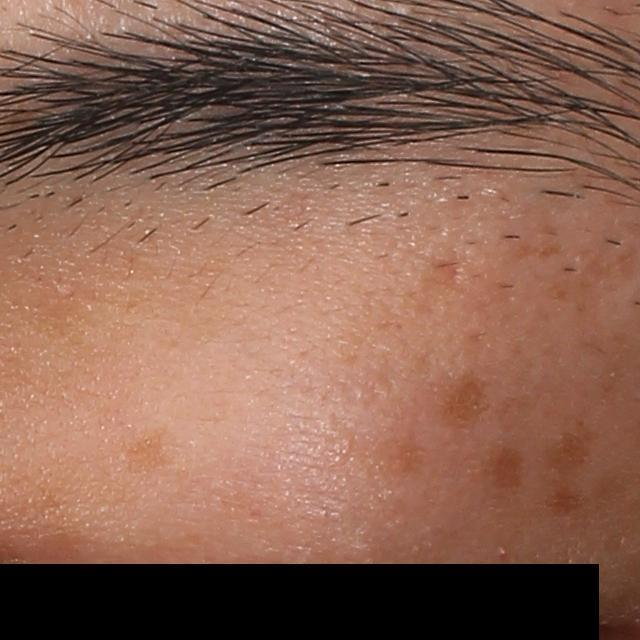melasma: (435, 369, 487, 432), (370, 437, 434, 484), (125, 425, 178, 480), (550, 422, 599, 478), (482, 442, 526, 496), (547, 483, 589, 520)
